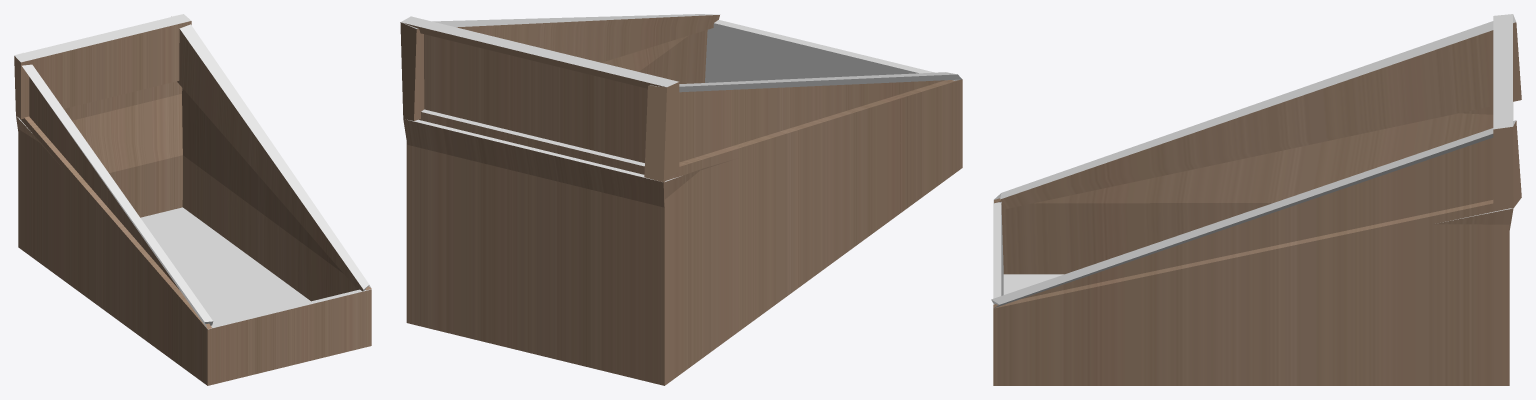
File: VisitingCardHolder3.gltf
3 renders of one model, left to right at view 1: azimuth 30°, elevation 25°; view 2: azimuth 150°, elevation 25°; view 3: azimuth 270°, elevation 25°, orthographic. The views are drawn at different scales.
Parts seen in each view (by area): view 1: Plane; view 2: Plane; view 3: Plane.
Part boxes in pixels (left/top/right/bottom): Plane: left=14, top=14, right=371, bottom=385; Plane: left=400, top=14, right=962, bottom=385; Plane: left=991, top=14, right=1521, bottom=385.
Size of the model in its own units: 2.08 by 2.23 by 4.11.
6 materials, 5 textured.
